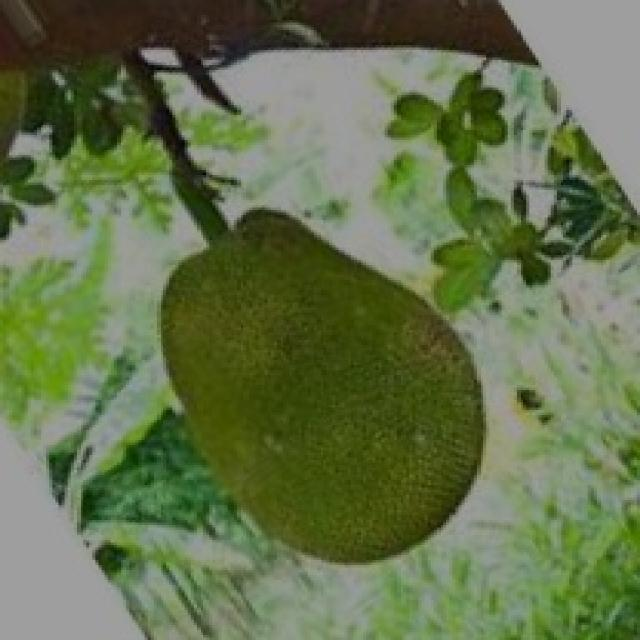Fruit: (126, 173, 523, 585)
